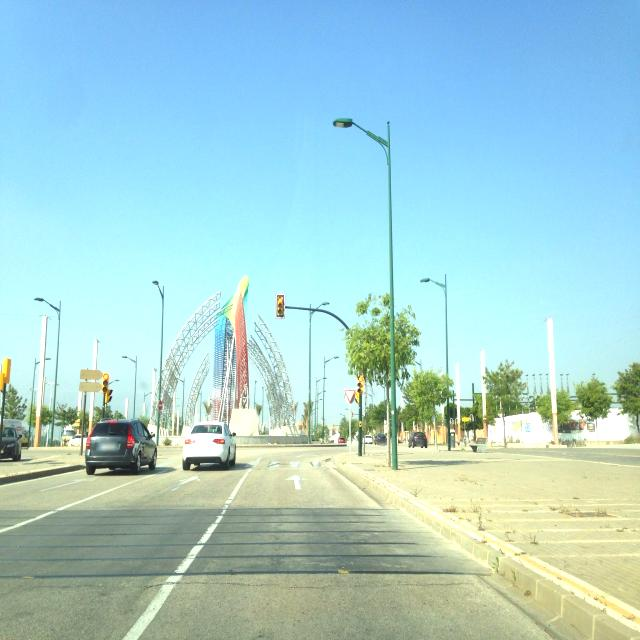car: (84, 417, 158, 475), (182, 420, 237, 470), (0, 426, 22, 463), (407, 430, 428, 449), (61, 427, 77, 445), (374, 432, 387, 444), (338, 436, 347, 446), (364, 434, 373, 444)
